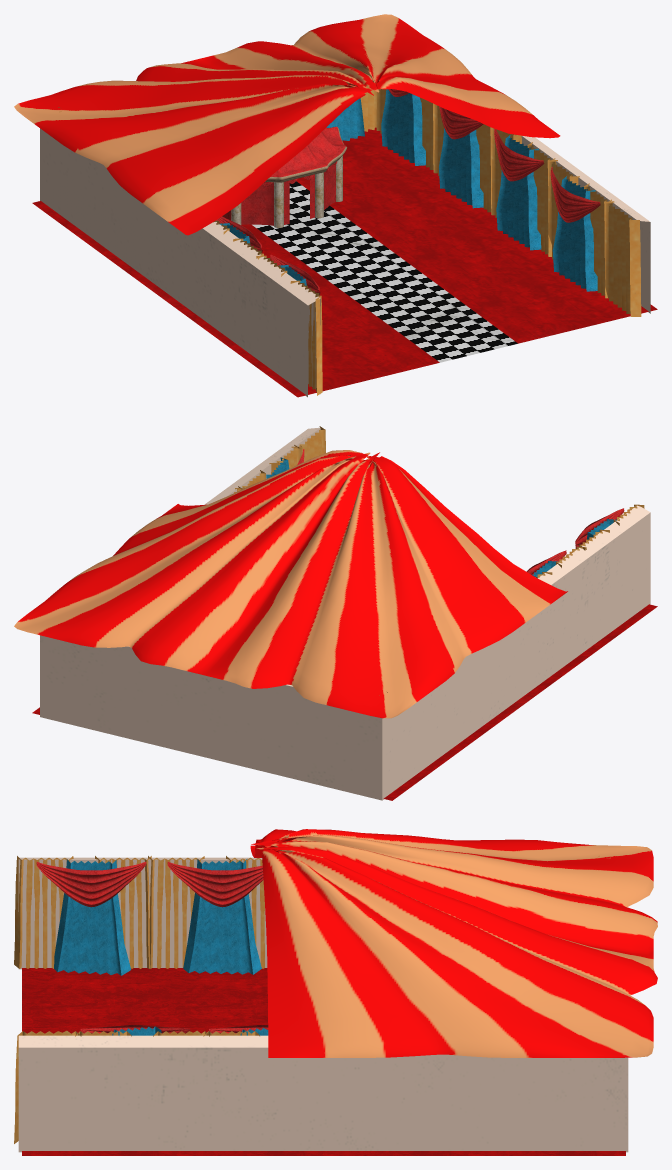
File: Circus_Tent_Main_Menu_FBX.fbx
3 renders of one model, top to bottom at view 1: azimuth 30°, elevation 25°; view 2: azimuth 150°, elevation 25°; view 3: azimuth 270°, elevation 25°, orthographic. The views are drawn at different scales.
Parts seen in each view (by area): view 1: Floor, Roof, Wall (×2), Curtains_11 (×4), Curtains_10 (×4), Curtains_13, Curtains_12 (×3), Drapes_07 (×3), Top, Curtains; view 2: Roof, Wall, Floor, Curtains_13; view 3: Roof, Wall, Floor, Curtains_11 (×2), Curtains_12 (×2), Drapes_07 (×3), Curtains_10 (×2), Curtains_13.
Part boxes in pixels (box(x1,y1,x2,y2)): Floor: box(32, 127, 657, 397); Roof: box(14, 14, 560, 235); Wall (×2): box(40, 128, 650, 397); Curtains_11 (×4): box(381, 89, 597, 291); Curtains_10 (×4): box(420, 97, 614, 298); Curtains_13: box(605, 199, 641, 316); Curtains_12 (×3): box(290, 128, 579, 395); Drapes_07 (×3): box(439, 106, 600, 222); Top: box(265, 126, 347, 182); Curtains: box(58, 86, 376, 140); Roof: box(14, 450, 567, 718); Wall: box(40, 427, 650, 800); Floor: box(32, 604, 657, 800); Curtains_13: box(291, 426, 325, 461); Roof: box(250, 829, 657, 1057); Wall: box(18, 857, 628, 1152); Floor: box(22, 968, 625, 1155); Curtains_11 (×2): box(54, 859, 261, 975); Curtains_12 (×2): box(14, 856, 204, 968); Drapes_07 (×3): box(36, 861, 263, 1033); Curtains_10 (×2): box(95, 856, 264, 968); Curtains_13: box(14, 1030, 81, 1143).
Size of the model in its own units: 1687 by 796 by 2163.
